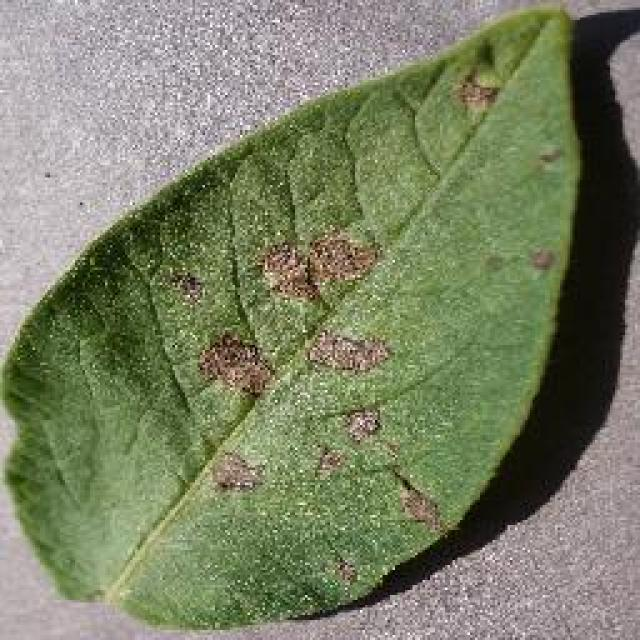Potato: (0, 0, 582, 632)
